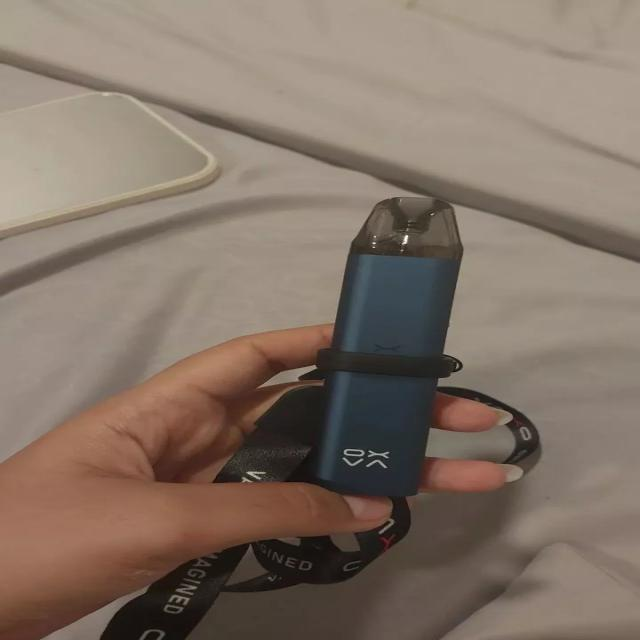Hazard: (302, 195, 465, 500)
